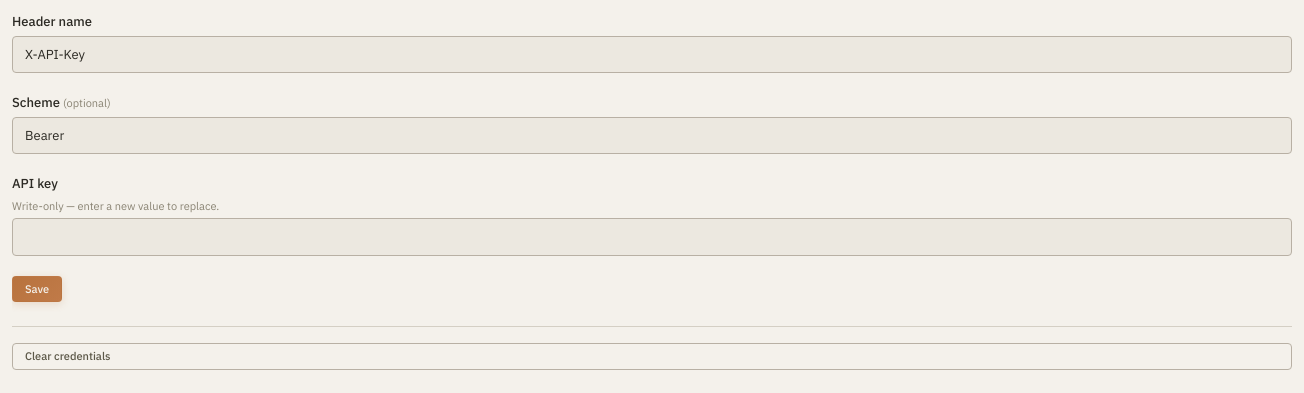
Scenario: strategy: static_api_key › shows saved confirmation after a successful save
Type "my-key" into the password field labelled "API key". click: (652, 237)
box: [12,218,1292,256]
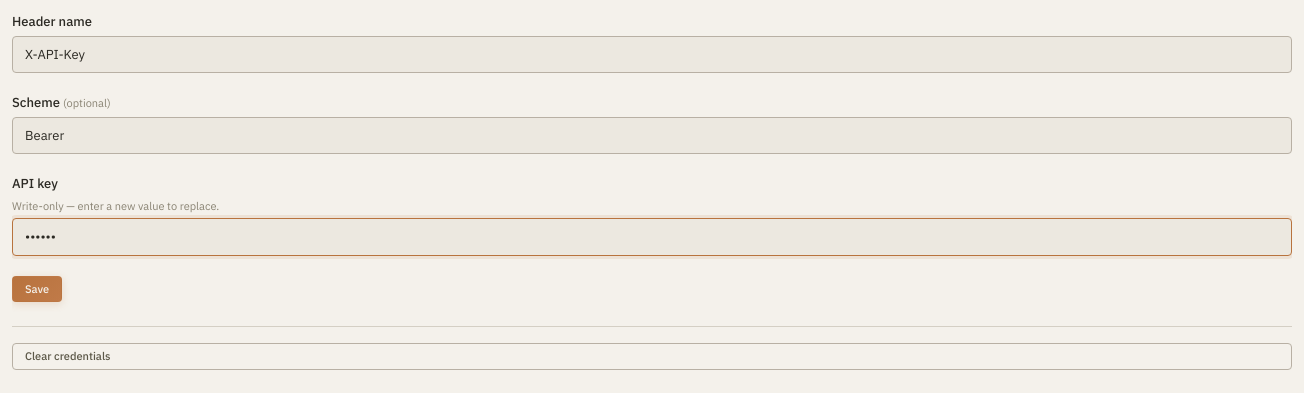
Click the button "Save". click: (37, 289)
box: [12,276,62,302]
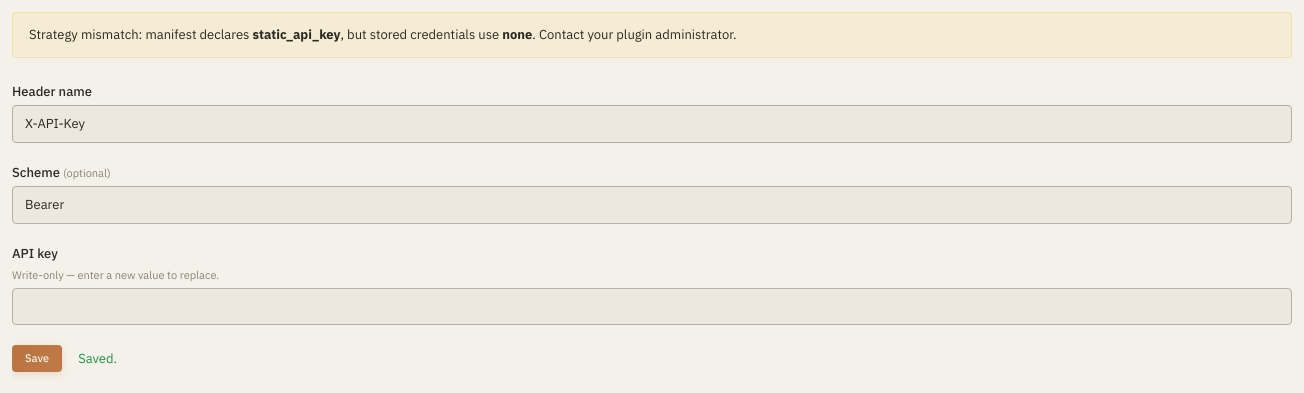
Now the text "Saved." is shown, box [78,348,117,368]
